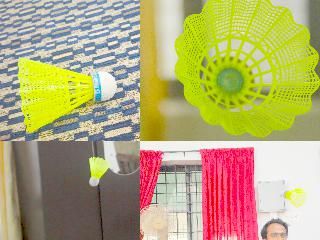shuttlecock: (174, 0, 319, 138), (18, 57, 116, 132), (88, 156, 110, 186), (282, 188, 306, 206)
